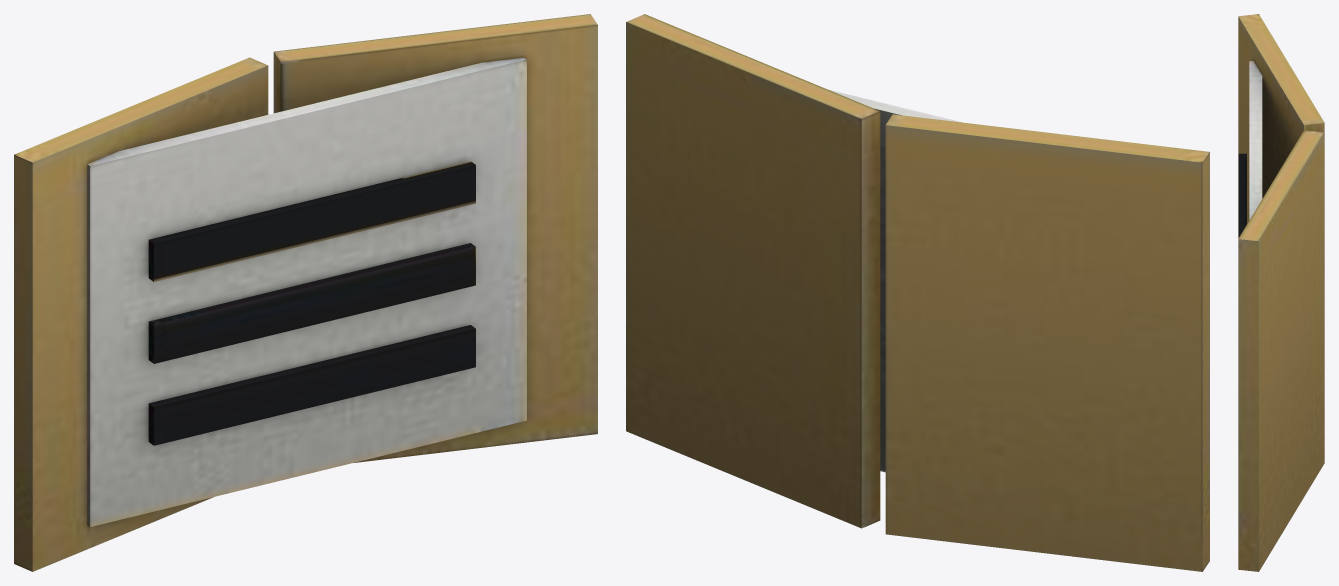
The model's file is carpeta_vuela.glb.
3 renders of one model, left to right at view 1: azimuth 30°, elevation 25°; view 2: azimuth 150°, elevation 25°; view 3: azimuth 270°, elevation 25°, orthographic. The views are drawn at different scales.
Visible parts, largest first — view 1: carpeta_vuela; view 2: carpeta_vuela; view 3: carpeta_vuela.
Part boxes in pixels (x1,y1,x2,y2): carpeta_vuela: [14, 14, 597, 571]; carpeta_vuela: [626, 14, 1209, 571]; carpeta_vuela: [1238, 14, 1324, 571].
Size of the model in its own units: 1.25 by 0.85 by 0.2018.
Materials: 1 (1 with a texture image).
